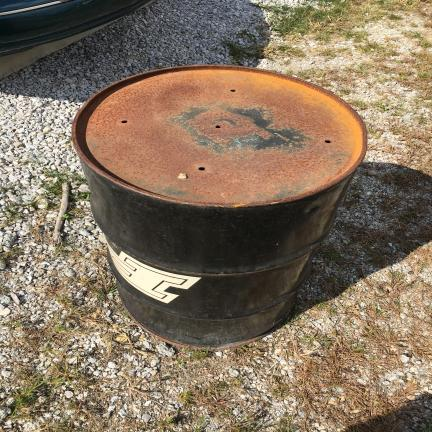karat: (76, 66, 364, 201)
